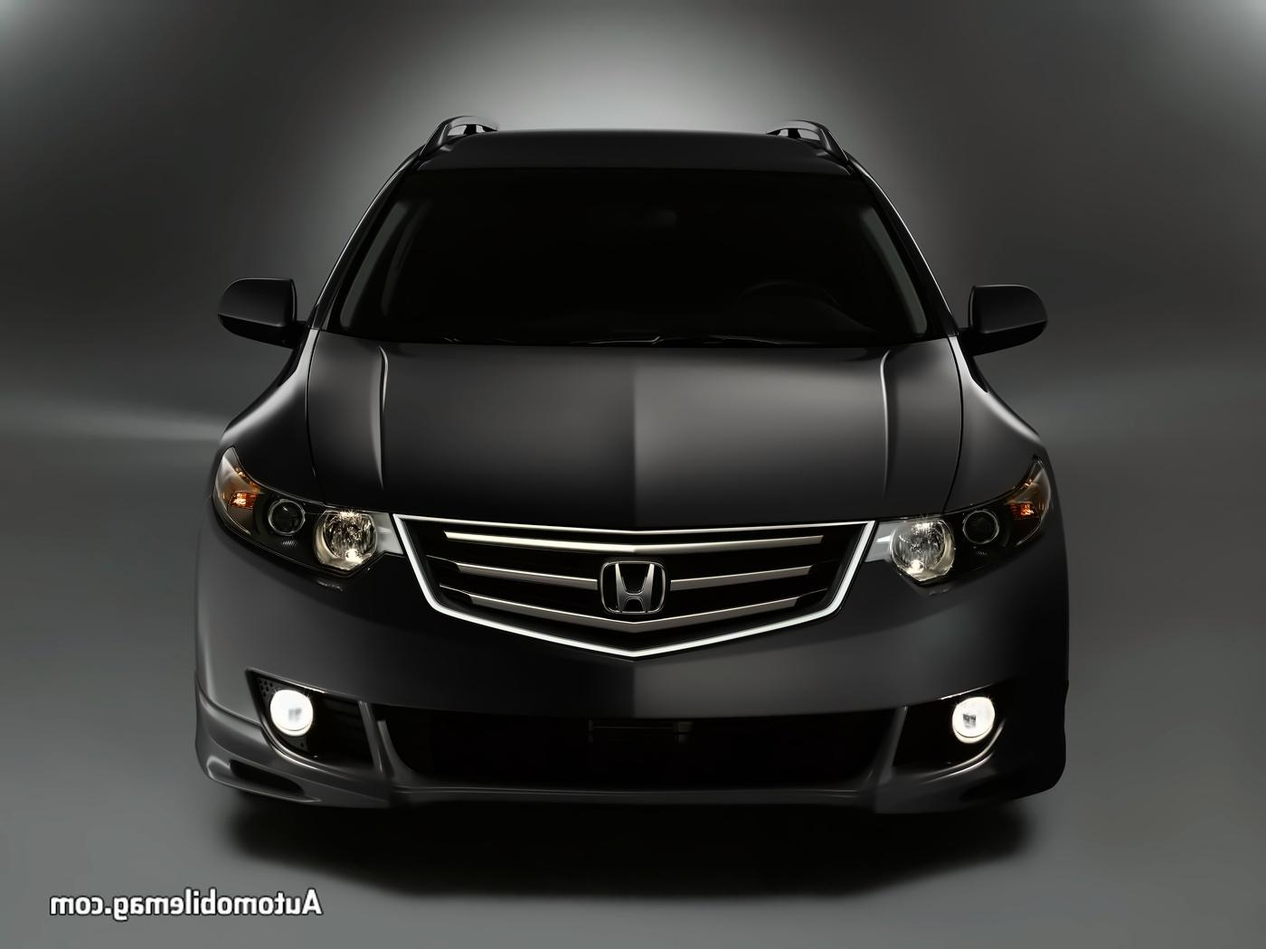Car hood: (219, 339, 1042, 534)
Front bumper: (190, 530, 1072, 833)
Headlight - -L-: (866, 449, 1054, 599)
Headlight - -R-: (216, 448, 386, 604)
Side mirror - -L-: (953, 274, 1050, 366)
Side mirror - -R-: (214, 277, 311, 354)
